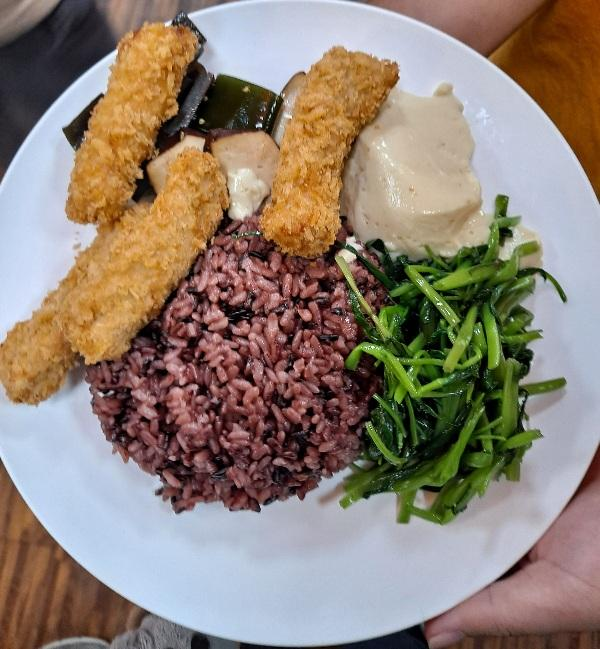big fried chicken leg: (0, 0, 596, 639)
braised fish: (119, 227, 373, 506)
braised fish fillet: (349, 227, 532, 513), (346, 83, 497, 250), (159, 57, 276, 219)
braised pork: (16, 19, 205, 378), (265, 42, 372, 260)
